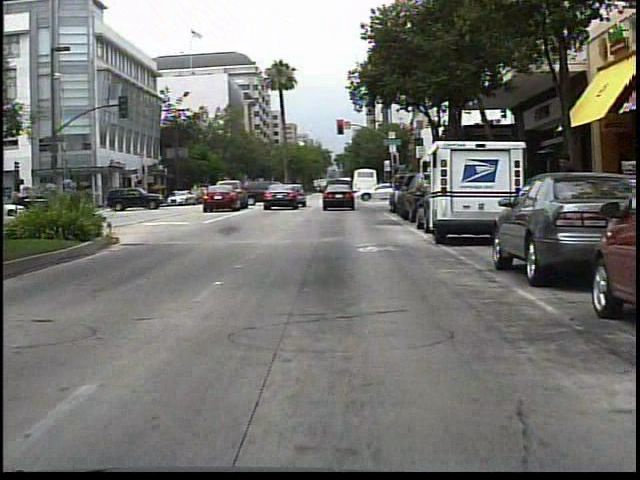person: (547, 148, 579, 243), (250, 181, 265, 206)
